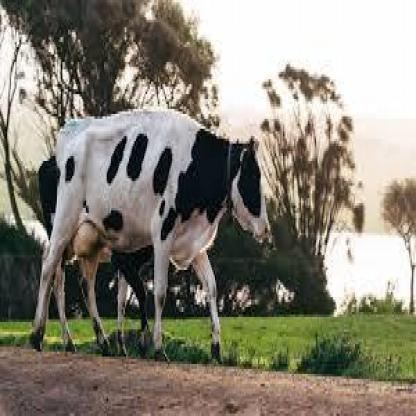cow: (35, 110, 270, 363)
